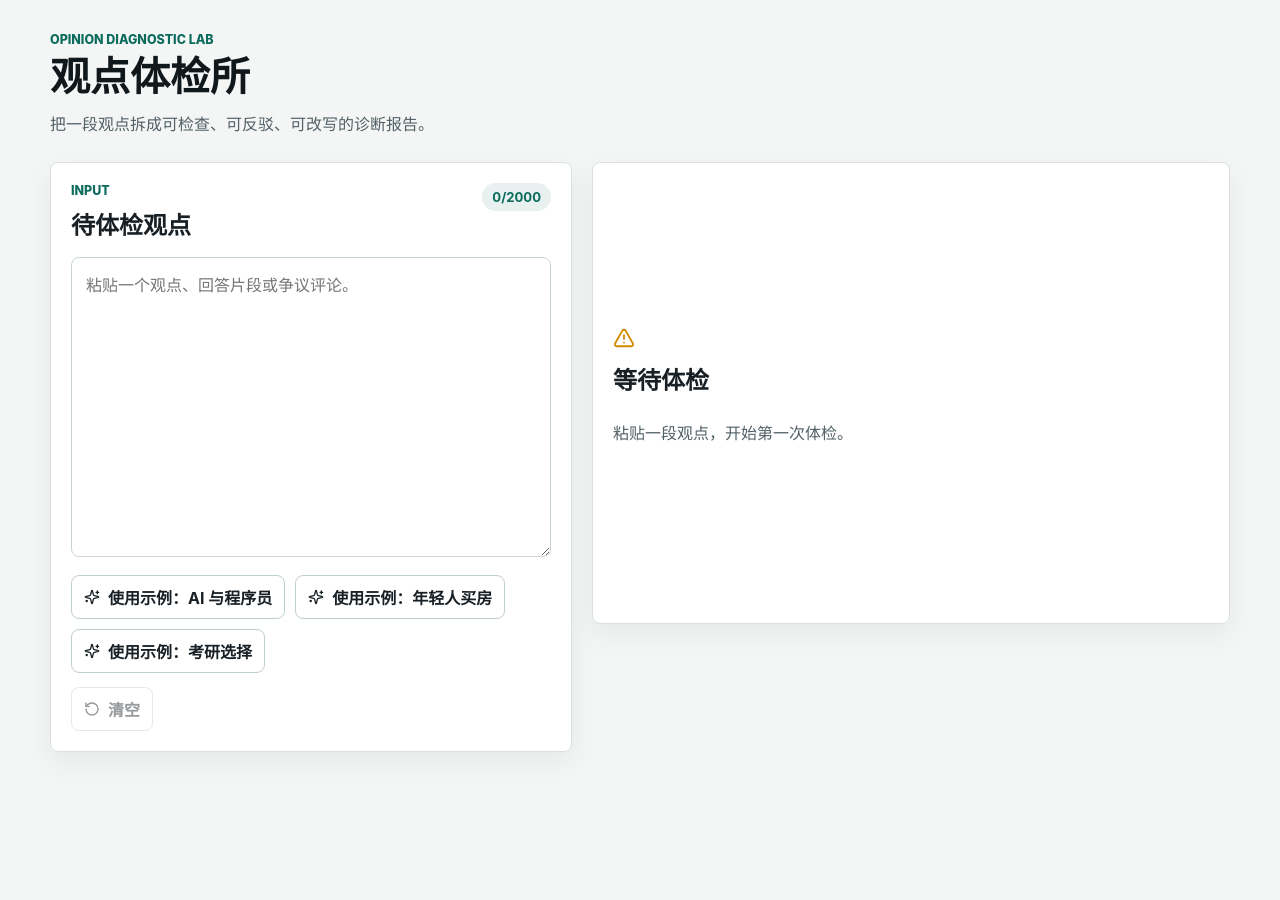
Test: App › generates a report from a sample input
The width and height of the screenshot is (1280, 900).
Click the button "使用示例：AI 与程序员". click: click(178, 597)
box: [71,575,285,619]
(page scrolled)
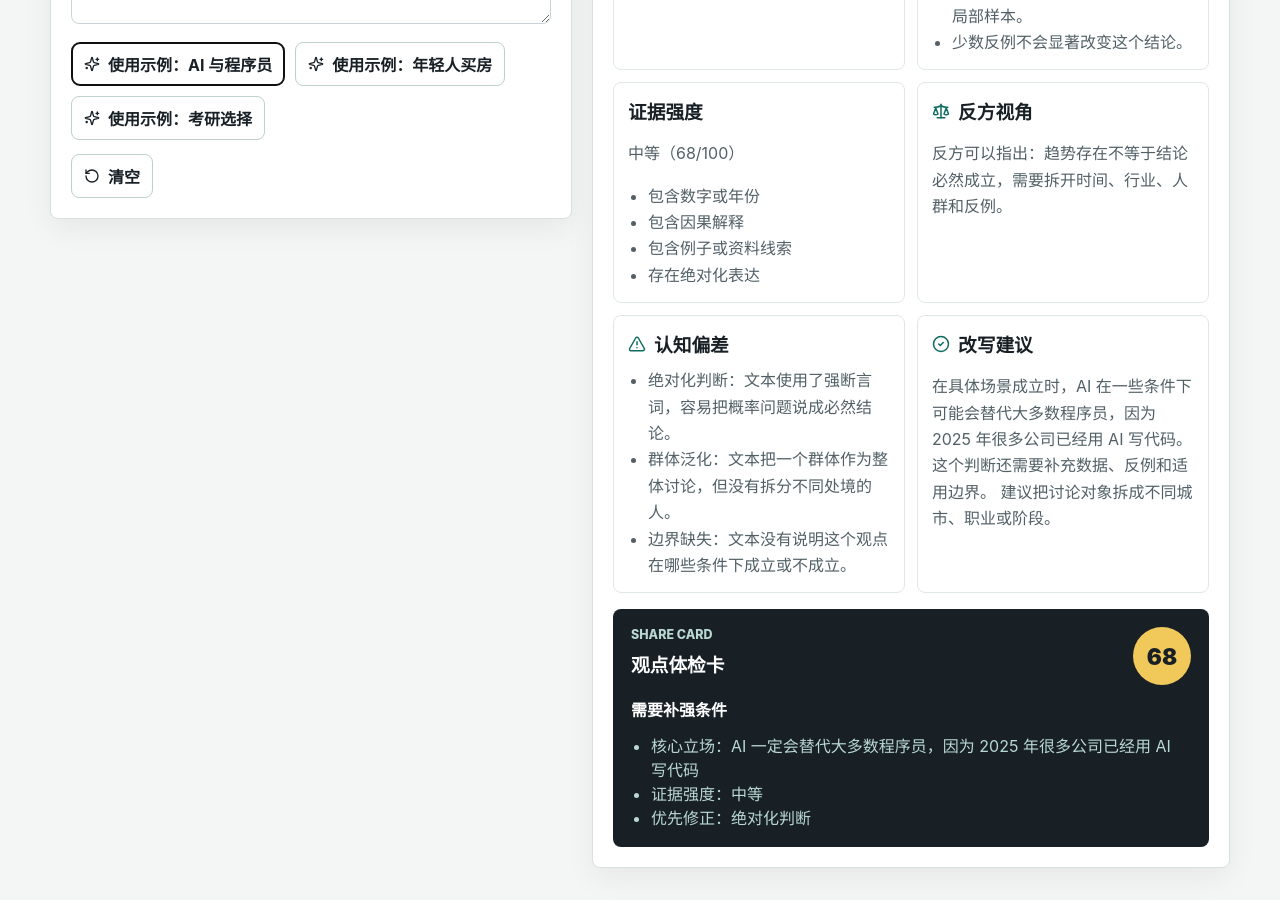
Result: the heading "观点体检卡" is shown at [631,654,724,677]
